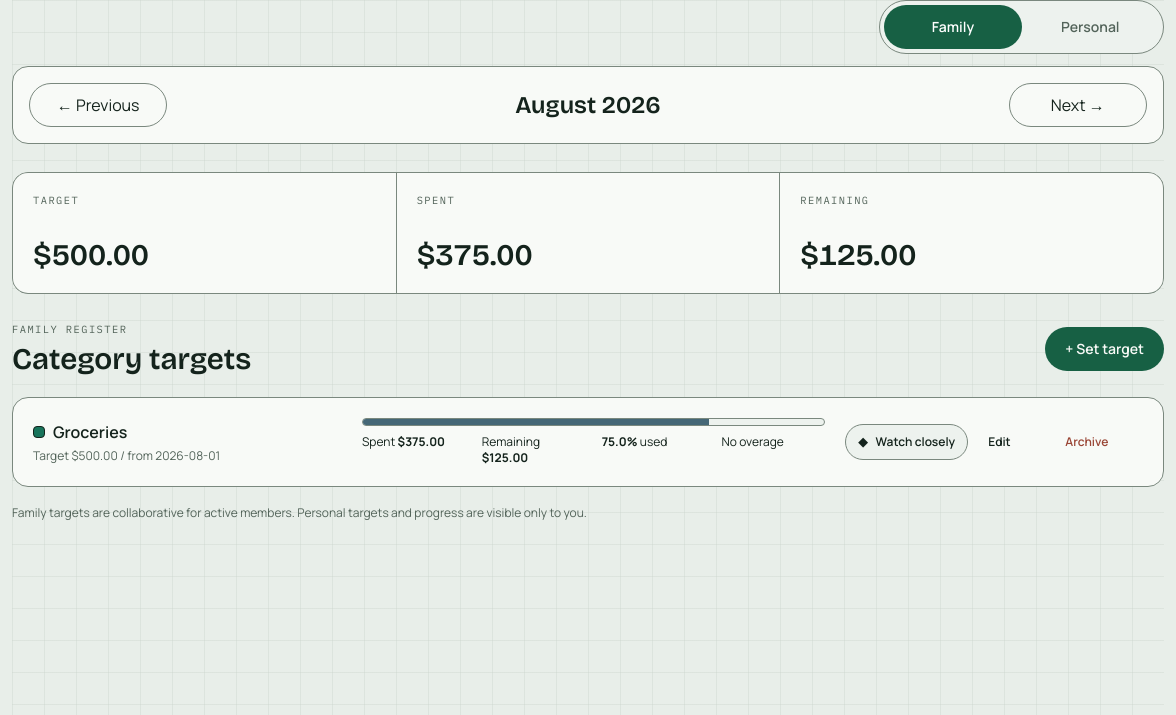
Test: GH-10 monthly budget workbench acceptance › FE-004 announces save failure while retaining the last model and entered values
Click the button with test id "budget-create" at [1105, 349], box [1045, 327, 1164, 371]
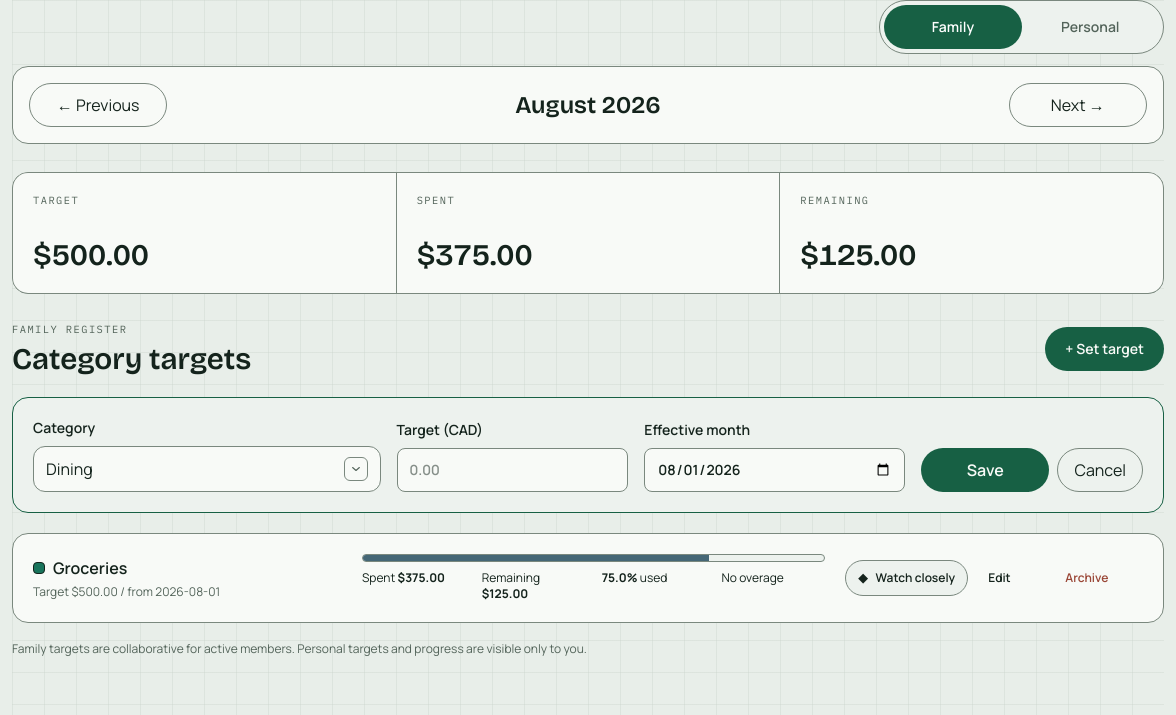
Click the dropdown with test id "budget-category" at [69, 469], box [33, 446, 381, 492]
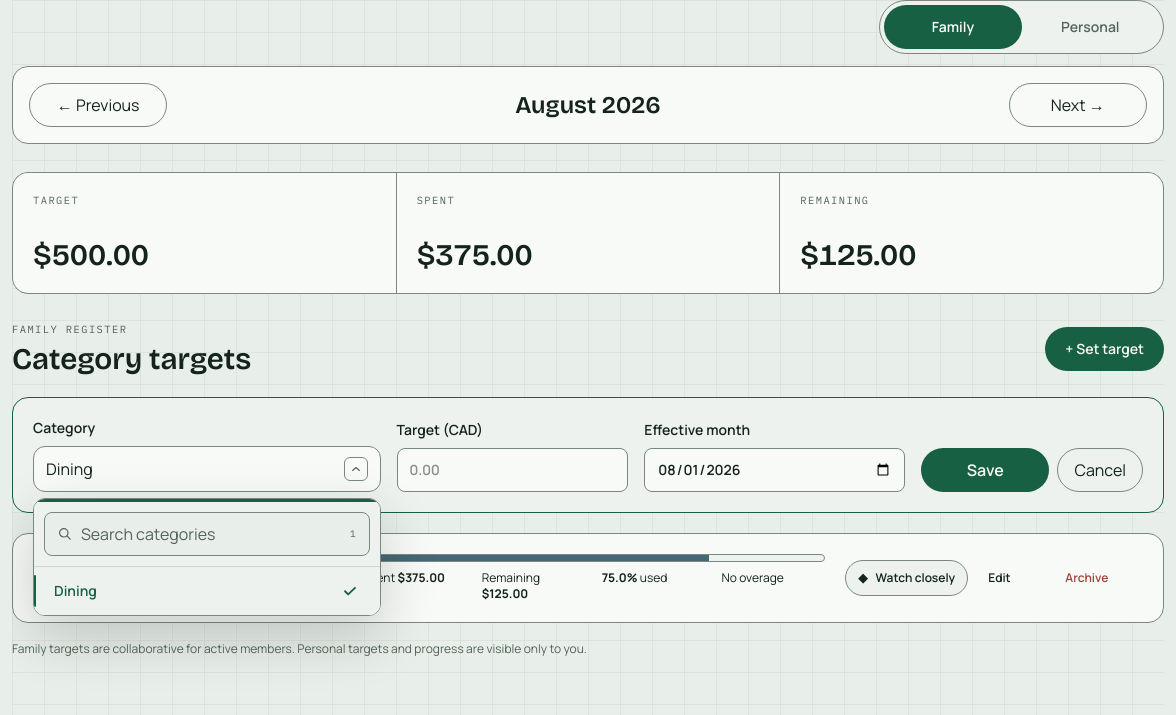
Click the option "Dining" at [75, 591], box [34, 567, 380, 615]
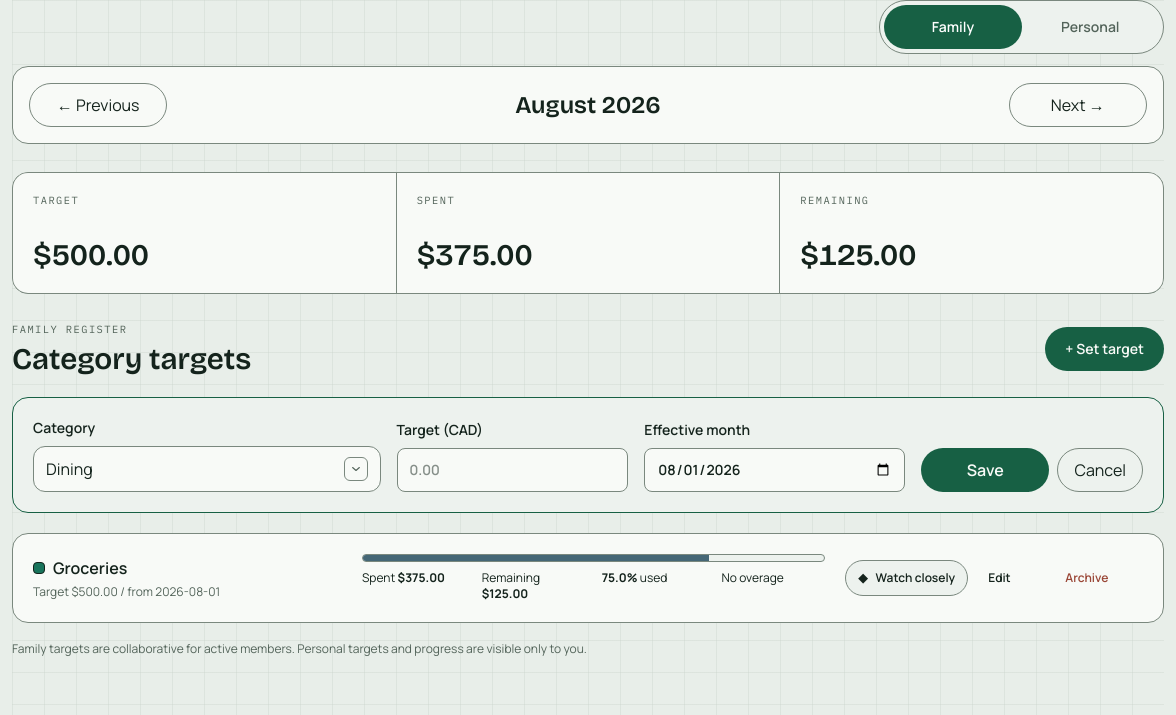
Type "321.45" into the field with test id "budget-amount" at [512, 470], box [397, 448, 628, 492]
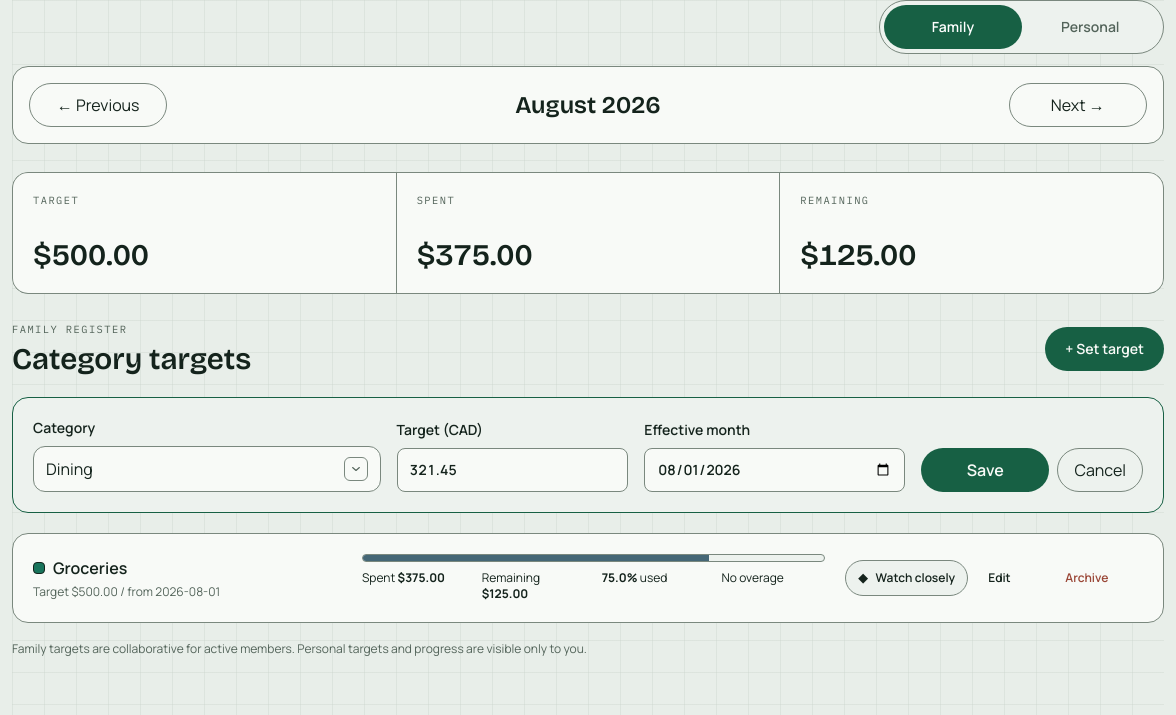
Type "2026-09-01" into the date field with test id "budget-effective-month" at [775, 470], box [644, 448, 905, 492]
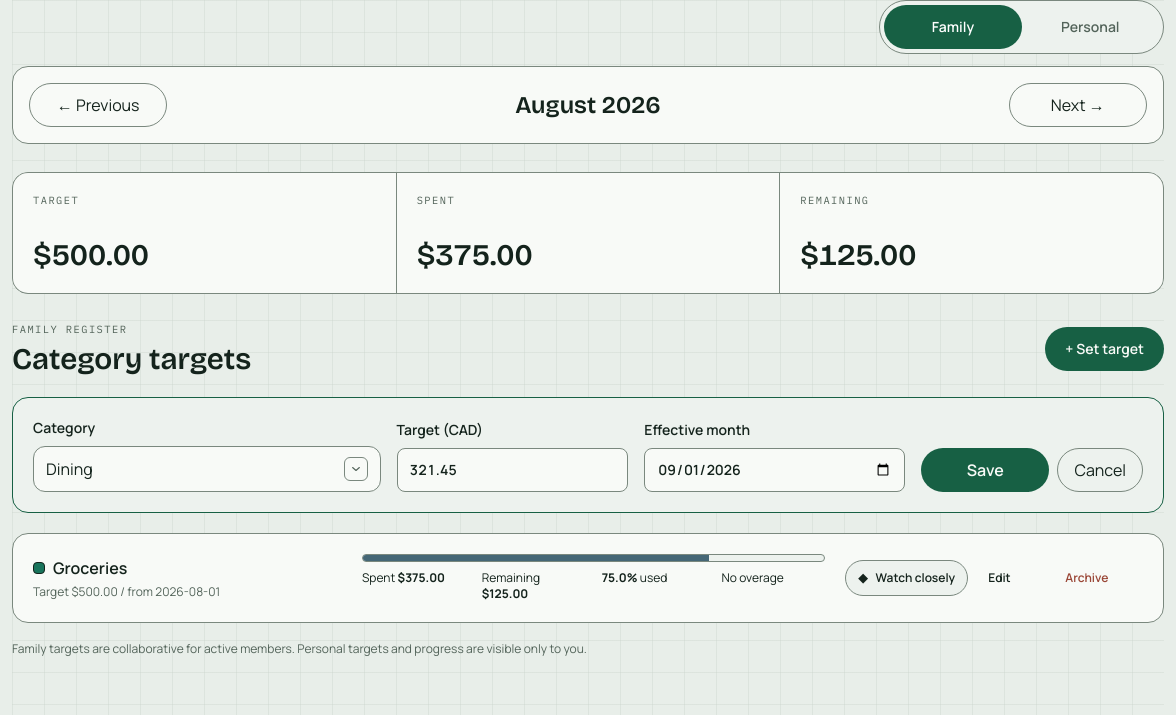
Click the button with test id "budget-save" at [985, 470], box [921, 448, 1050, 492]
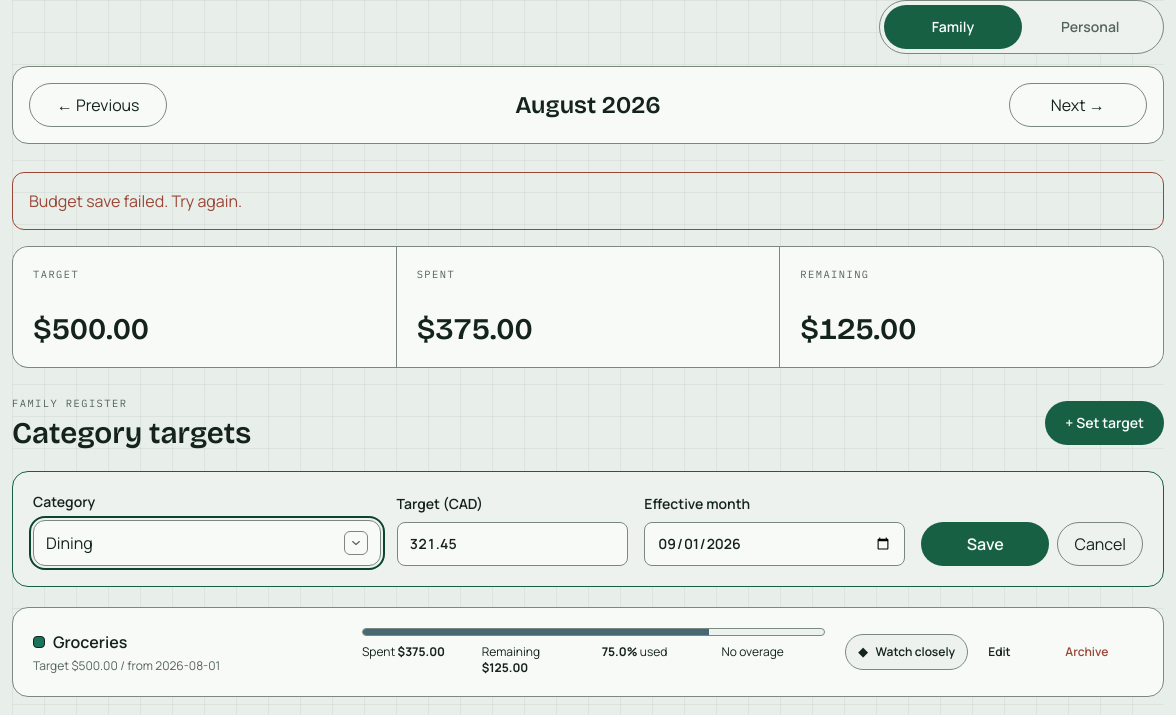
Expected: the element with test id "budget-target-list" shows "Groceries", [53, 631, 127, 653]
Now the message with test id "budget-error" reads "Budget save failed. Try again.", box [29, 190, 242, 212]
